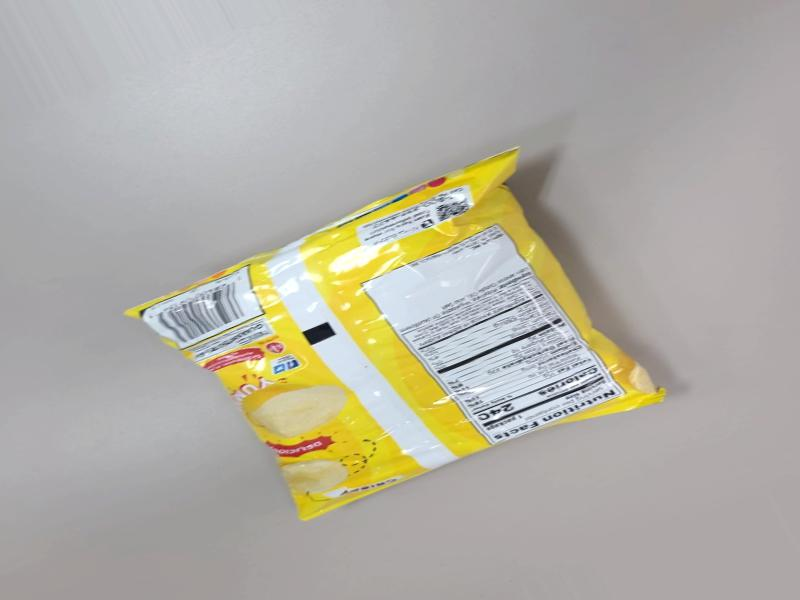lays: (209, 137, 690, 554)
